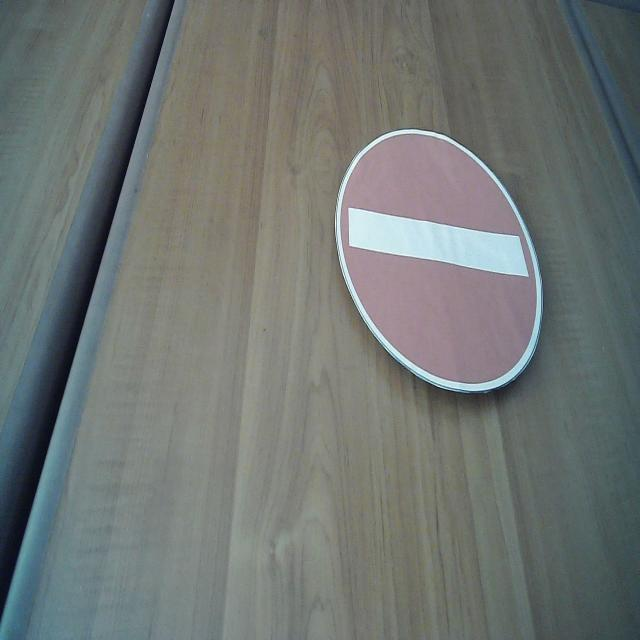no_entry: (333, 126, 546, 397)
